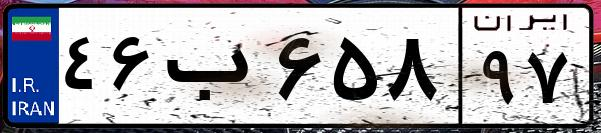4: (57, 26, 110, 100)
5: (330, 28, 385, 110)
6: (270, 28, 330, 110), (110, 28, 158, 98)
7: (525, 38, 570, 115)
8: (385, 28, 445, 110)
9: (475, 38, 525, 113)
ب: (158, 20, 270, 120)
